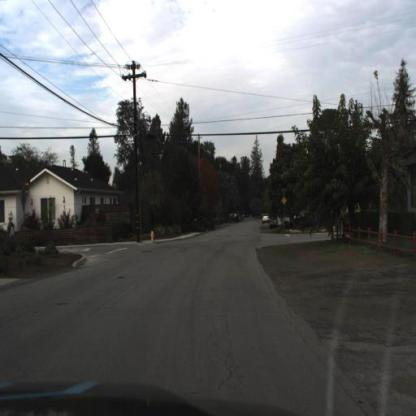car: (279, 209, 310, 230), (271, 216, 281, 230), (263, 215, 271, 225)
